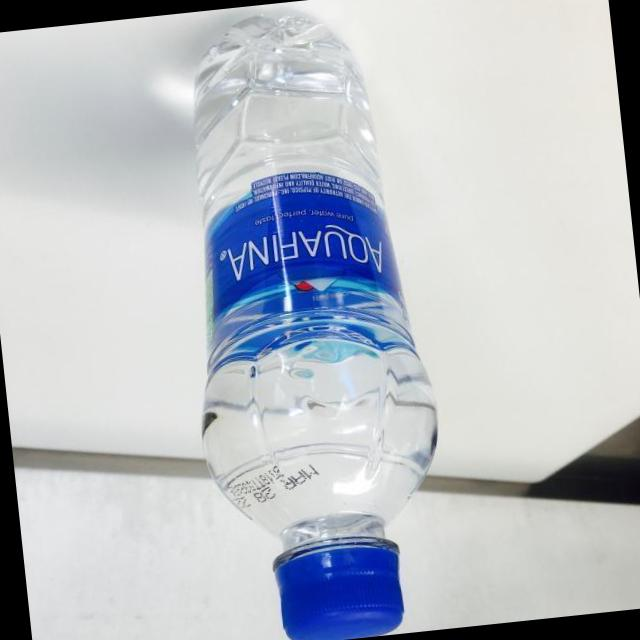plastic_bottle: (160, 0, 462, 640)
